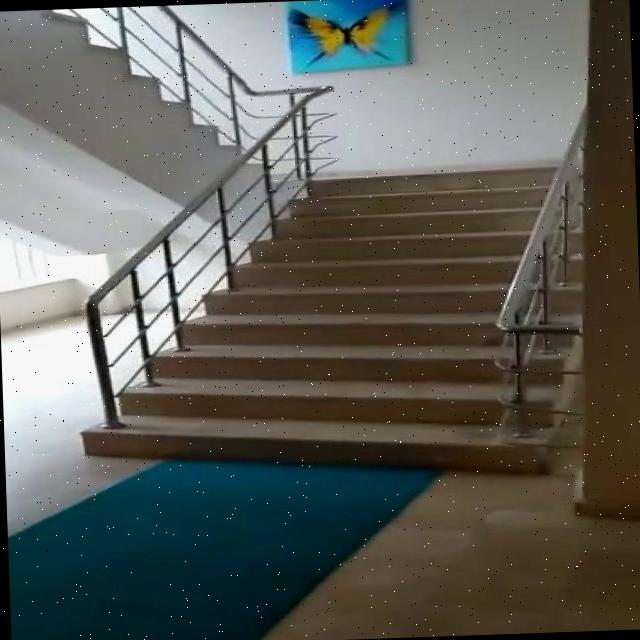stairs: (71, 163, 585, 488)
